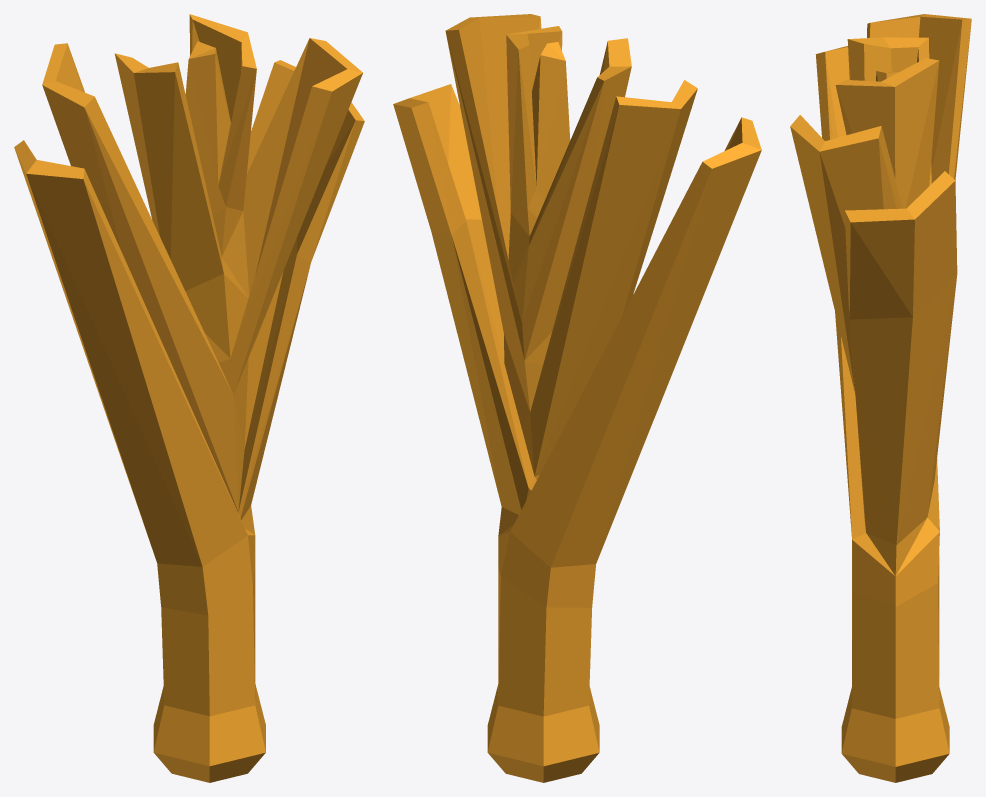
Rendered from SM_Leek_Harvested_A.fbx.
3 renders of one model, left to right at view 1: azimuth 30°, elevation 25°; view 2: azimuth 150°, elevation 25°; view 3: azimuth 270°, elevation 25°, orthographic. The views are drawn at different scales.
Visible parts, largest first — view 1: leek-harvested-a; view 2: leek-harvested-a; view 3: leek-harvested-a.
Boxes of the visible parts, x1,y1,x2,y2 form: leek-harvested-a: (14,14,364,782); leek-harvested-a: (393,14,761,782); leek-harvested-a: (790,14,971,782).
Size of the model in its own units: 0.2789 by 0.5755 by 0.1332.
